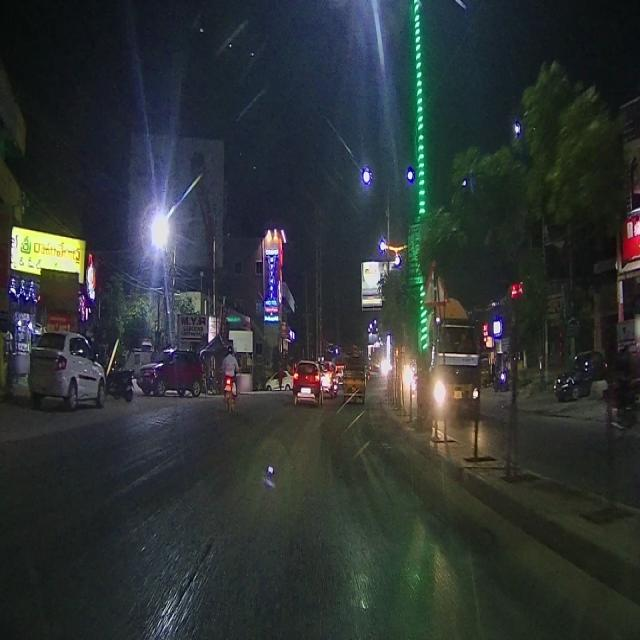gap-in-median: (427, 261, 447, 305)
